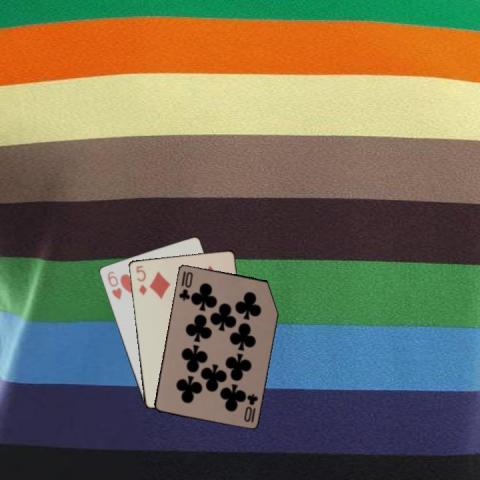10c: (175, 268, 194, 302), (241, 390, 259, 423)
5d: (133, 262, 148, 297)
6h: (104, 268, 123, 301)
